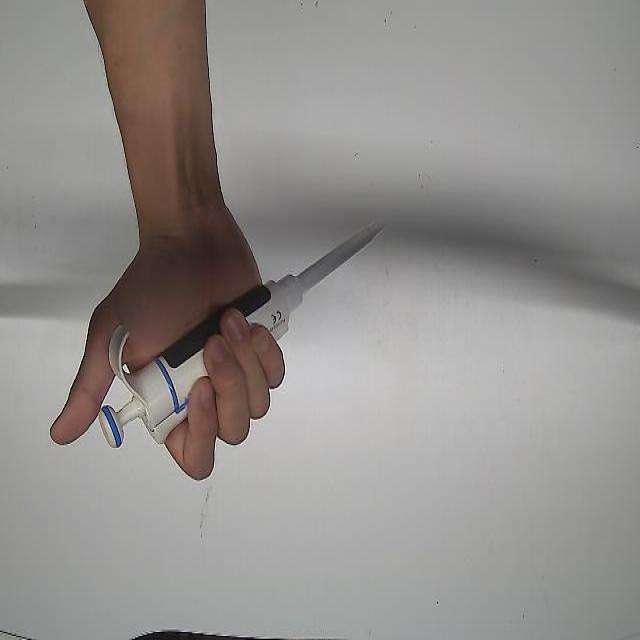Single Channel Pipettor: (95, 216, 391, 452)
